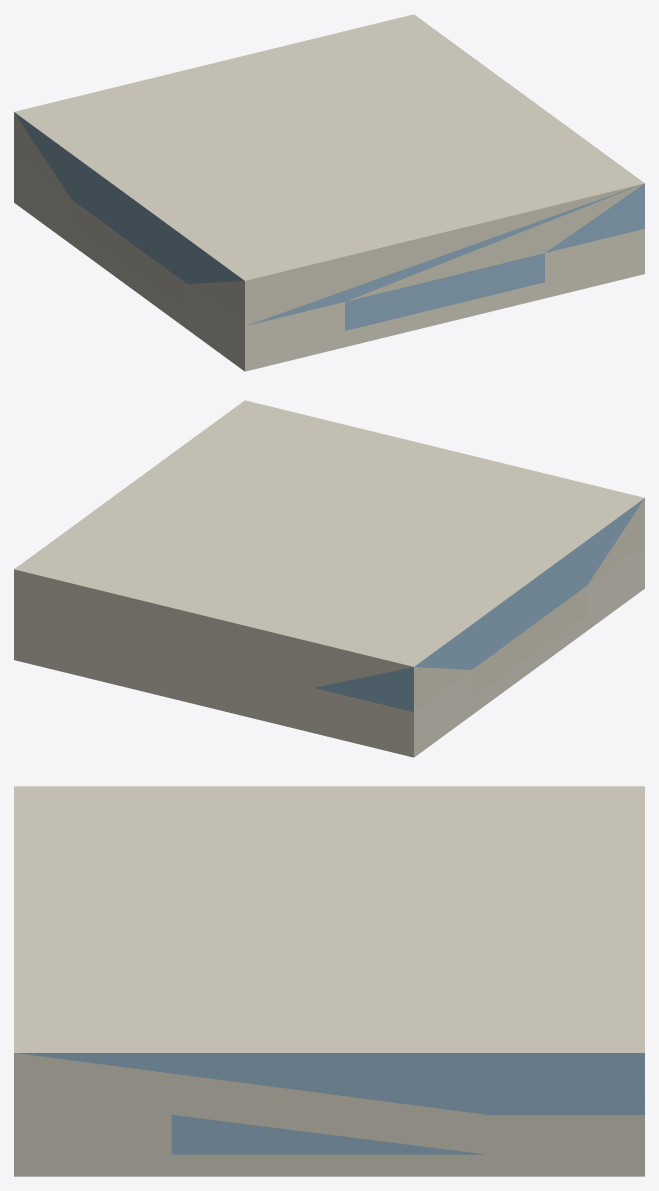
The model's file is towerSquareMidColor.glb.
The picture shows the model from 3 angles, top to bottom: view 1: azimuth 30°, elevation 25°; view 2: azimuth 150°, elevation 25°; view 3: azimuth 270°, elevation 25°; orthographic projection. The views are drawn at different scales.
Parts seen in each view (by area): view 1: towerSquareMidColor; view 2: towerSquareMidColor; view 3: towerSquareMidColor.
Boxes of the visible parts, box(x1,y1,x2,y2) form: towerSquareMidColor: box(14, 14, 644, 371); towerSquareMidColor: box(14, 400, 644, 757); towerSquareMidColor: box(14, 786, 644, 1176).
Bounding box in the file's own units: 9.3 × 2.02 × 9.3.
